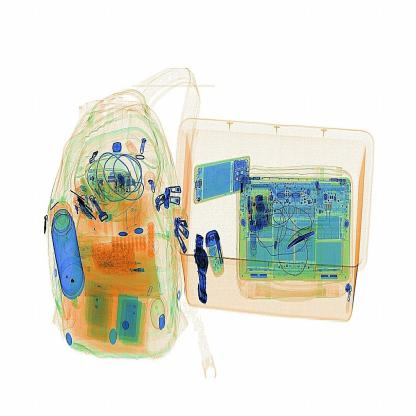pliers: (283, 226, 325, 255)
